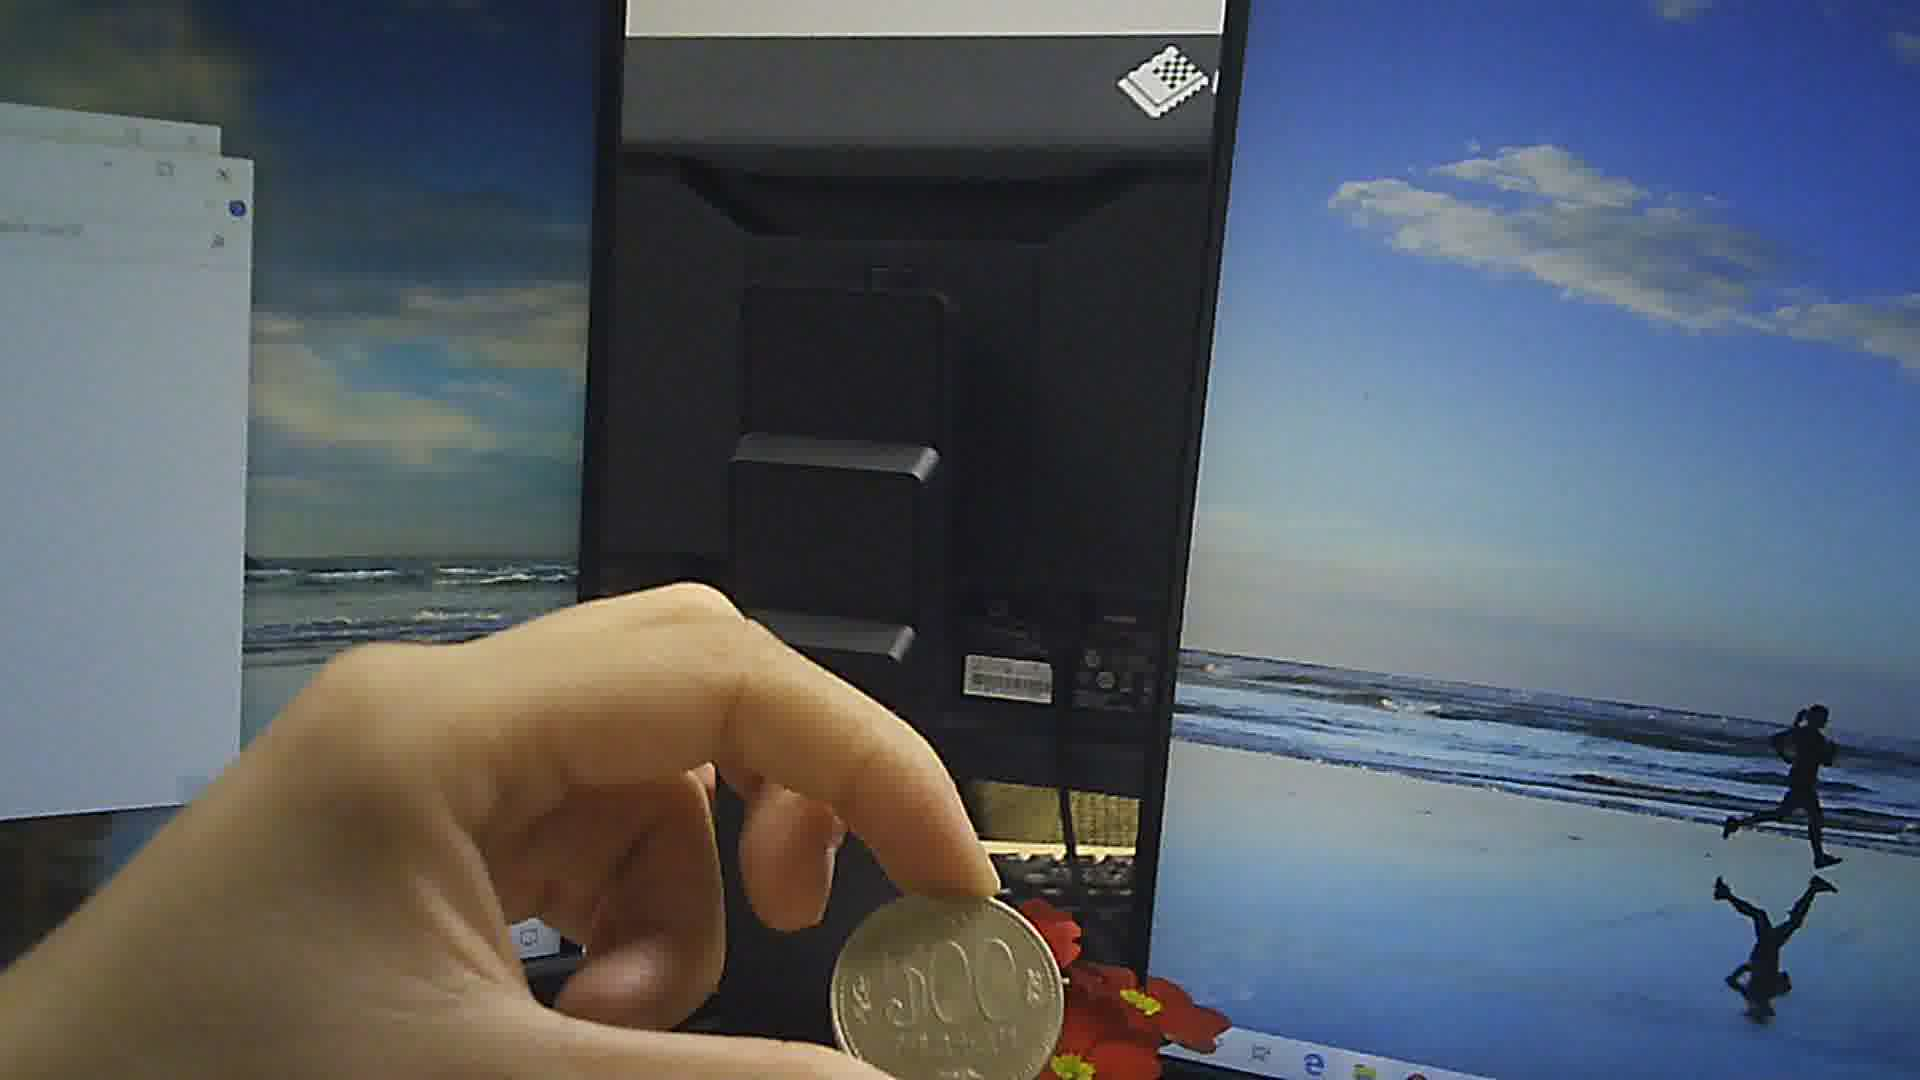500 Yen: (825, 886, 1067, 1079)
